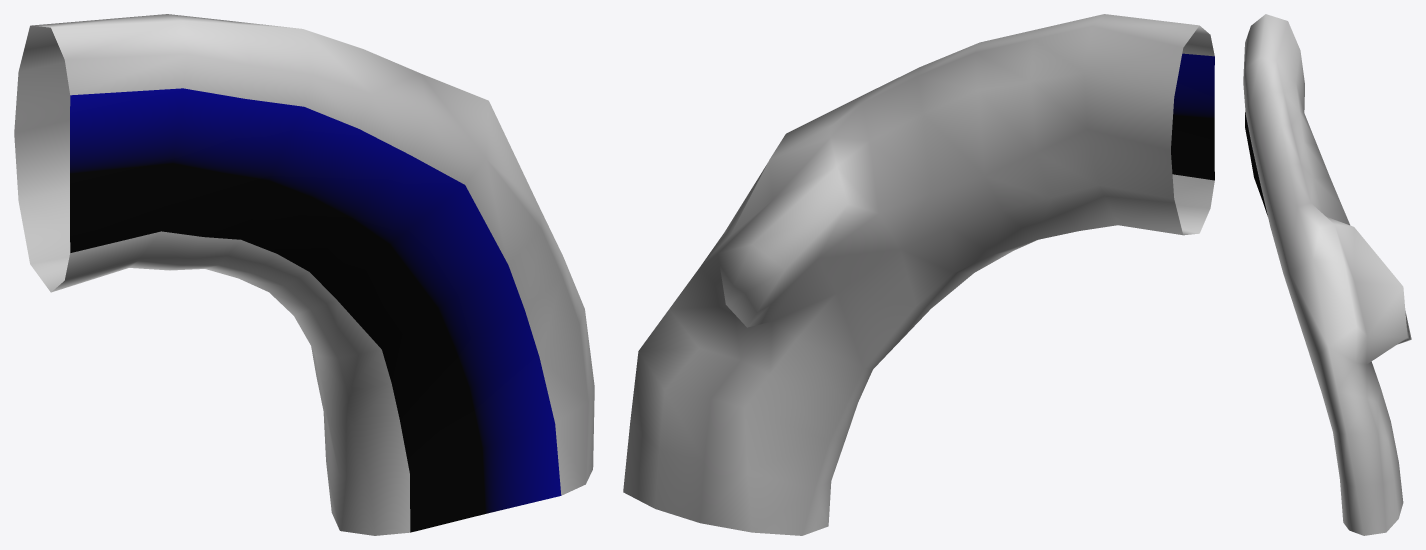
Rendered from Volcano_BridgeRampCurveA_flip.glb.
The picture shows the model from 3 angles, left to right: view 1: azimuth 30°, elevation 25°; view 2: azimuth 150°, elevation 25°; view 3: azimuth 270°, elevation 25°; orthographic projection. The views are drawn at different scales.
Visible parts, largest first — view 1: MeshNode_1, MeshNode_0; view 2: MeshNode_0, MeshNode_1; view 3: MeshNode_0, MeshNode_1.
Boxes of the visible parts, <box> form: MeshNode_1: <box>70,88,561,532</box>; MeshNode_0: <box>14,14,594,535</box>; MeshNode_0: <box>623,14,1214,535</box>; MeshNode_1: <box>1171,53,1214,180</box>; MeshNode_0: <box>1243,14,1411,535</box>; MeshNode_1: <box>1245,112,1267,216</box>.
Size of the model in its own units: 79.98 by 79.98 by 34.32.
